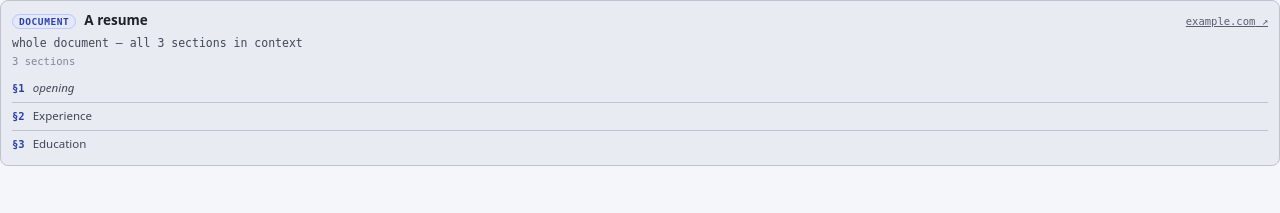
DocumentCard › keeps section text collapsed until it is asked for
The image size is (1280, 213).
Check: the text "Led a team of six." is not shown
Click the text "Experience".
click(62, 116)  # box [33,108,92,123]
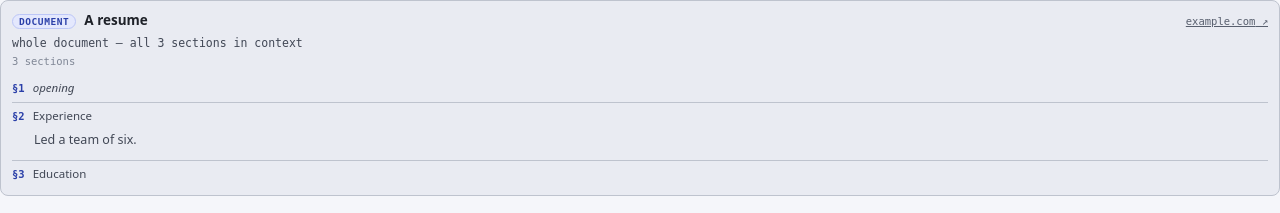
Check: the text "Led a team of six." is shown, box [34,131,137,148]
